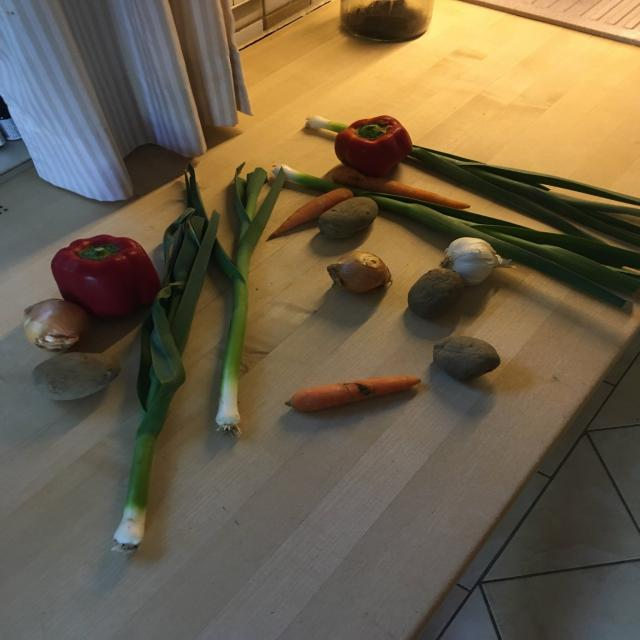Carrot: (285, 371, 425, 421), (323, 167, 476, 212), (269, 185, 351, 242)
Onion: (14, 296, 91, 355), (319, 245, 392, 298)
Potato: (22, 351, 121, 404), (424, 332, 506, 387), (401, 266, 468, 318), (310, 191, 382, 238)
